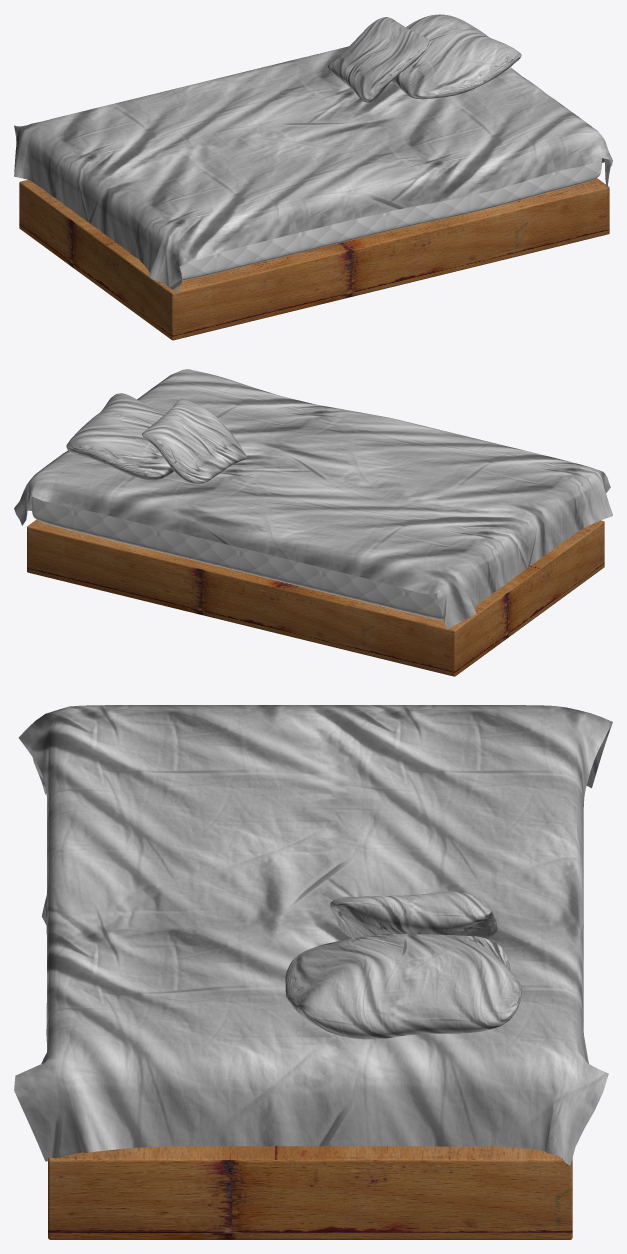
Rendered from Full-Bed.glb.
The picture shows the model from 3 angles, top to bottom: view 1: azimuth 30°, elevation 25°; view 2: azimuth 150°, elevation 25°; view 3: azimuth 270°, elevation 25°; orthographic projection. The views are drawn at different scales.
Parts seen in each view (by area): view 1: Plane001, Box001, Box002, Cylinder001, Cylinder002; view 2: Plane001, Box001, Box002, Cylinder001, Cylinder002; view 3: Plane001, Box001, Cylinder001, Cylinder002.
Part boxes in pixels (box(x1,y1,x2,y2)): Plane001: box(14, 46, 612, 291); Box001: box(19, 178, 609, 340); Box002: box(179, 158, 601, 280); Cylinder001: box(391, 14, 521, 99); Cylinder002: box(328, 17, 428, 102); Plane001: box(14, 369, 612, 629); Box001: box(27, 519, 604, 676); Box002: box(31, 496, 443, 620); Cylinder001: box(66, 393, 173, 480); Cylinder002: box(142, 399, 246, 483); Plane001: box(14, 705, 612, 1165); Box001: box(48, 1146, 572, 1239); Cylinder001: box(285, 934, 521, 1039); Cylinder002: box(330, 891, 497, 938).
Bounding box in the file's own units: 3.15 × 0.982 × 2.03.
Materials: 3 (3 with a texture image).
